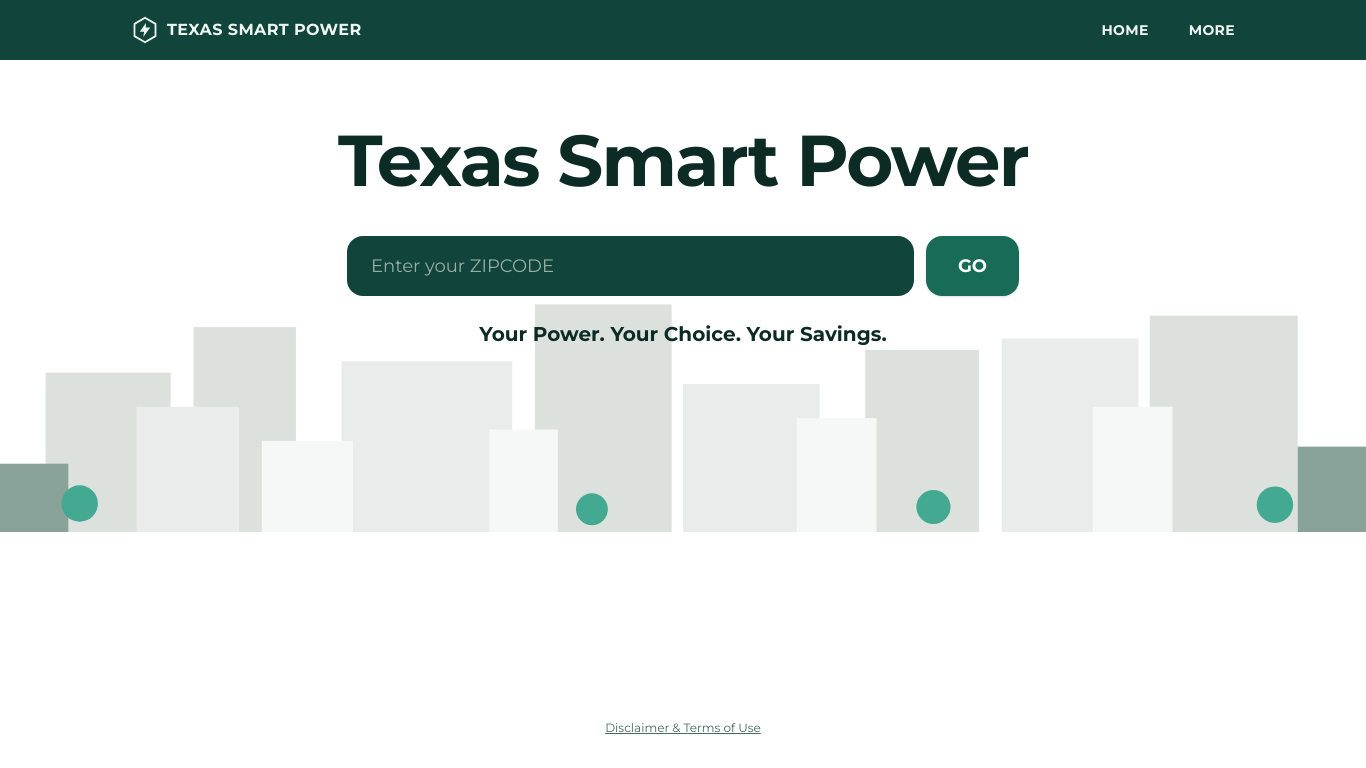
valid ZIP with one area auto-selects it and loads plans
Type "75201" into the field named "zip code". click: (630,266)
box: left=347, top=236, right=914, bottom=296
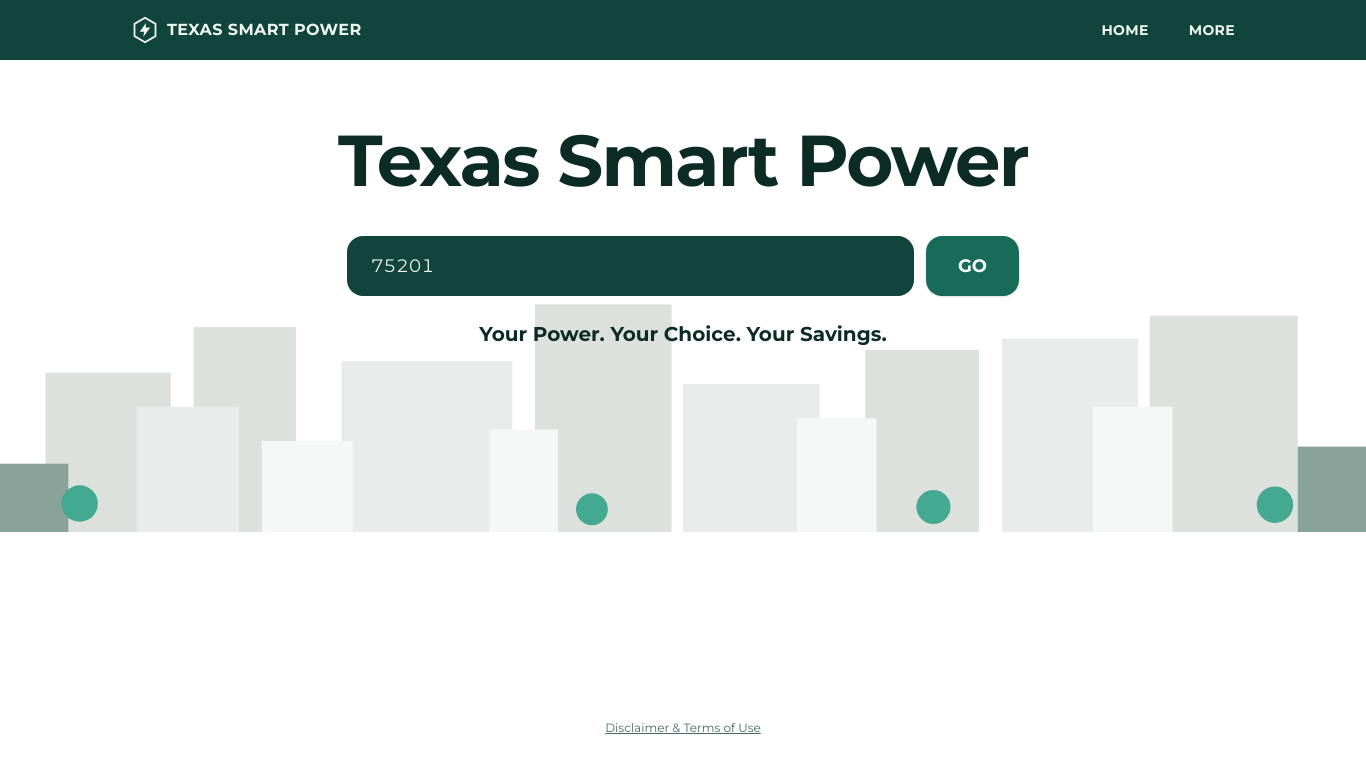
Click the button "GO". click: (972,266)
box: left=926, top=236, right=1019, bottom=296
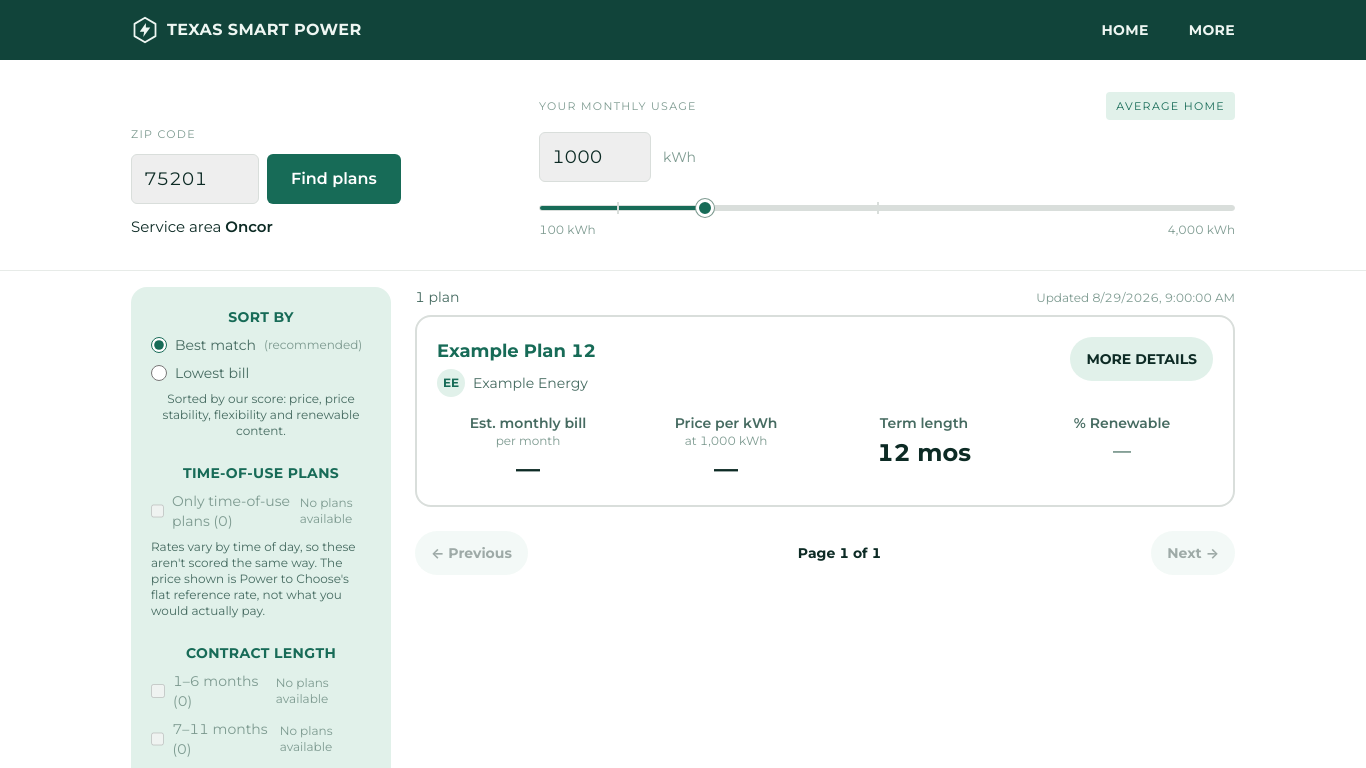
Expected: the heading "Example Plan 12" is shown, left=437, top=337, right=596, bottom=365
